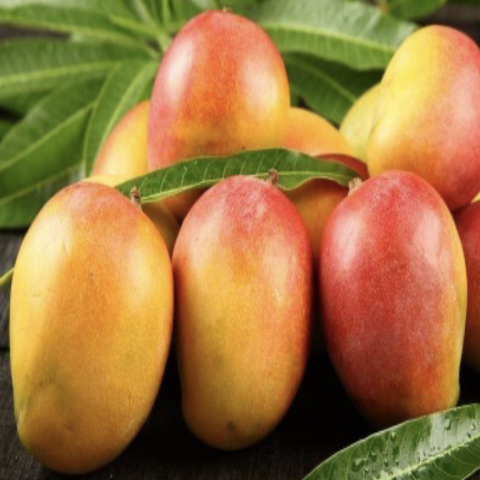mango: (4, 158, 183, 466), (309, 142, 480, 452), (166, 180, 329, 454), (135, 0, 307, 216)
